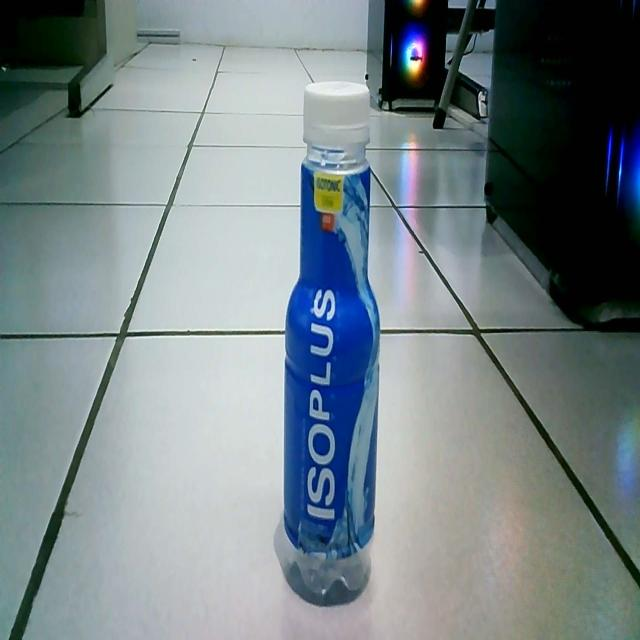botol: (280, 71, 384, 601)
